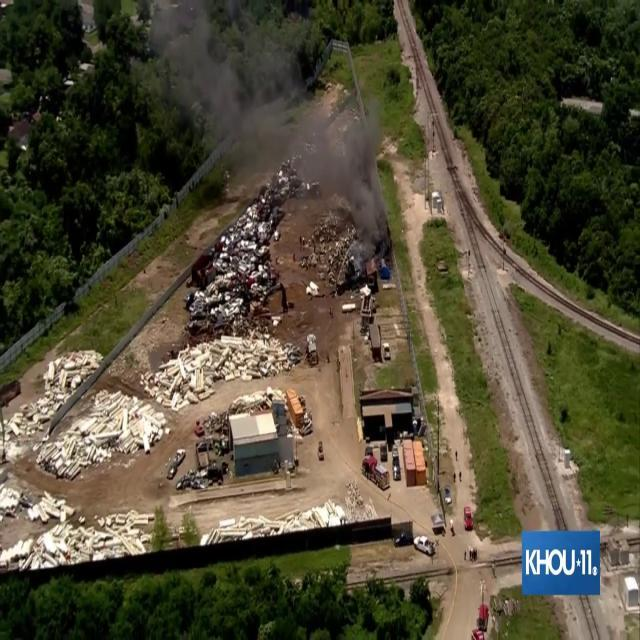Smoke: (147, 3, 390, 249)
